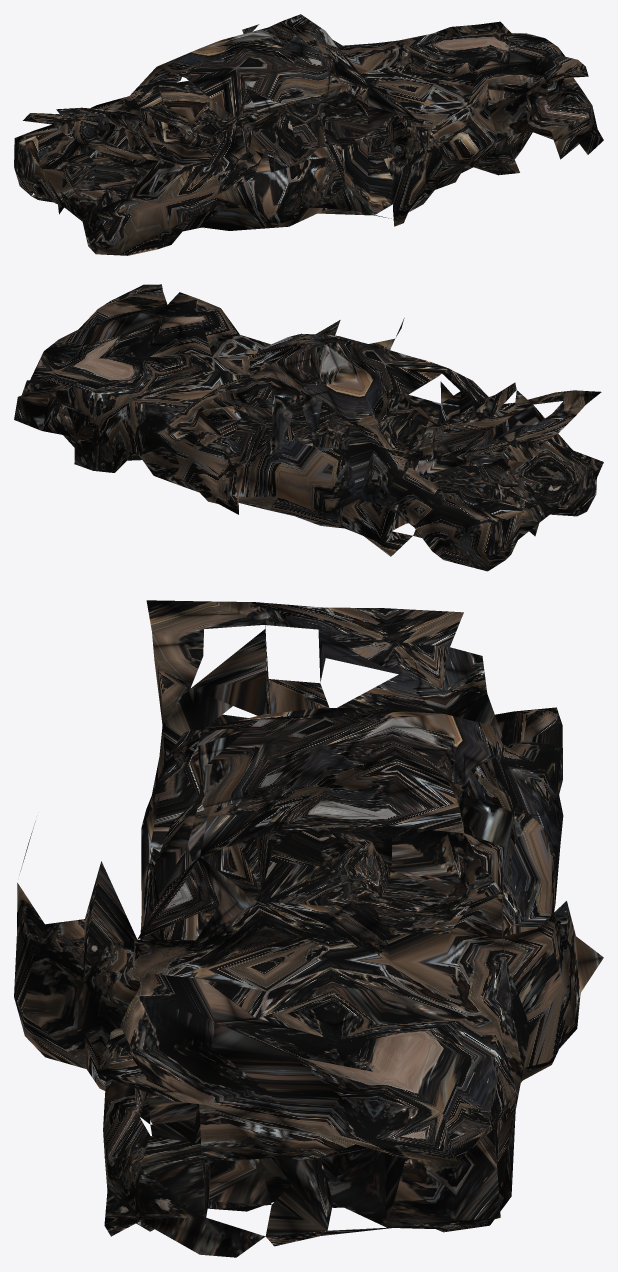
File: destroyed_car_03.glb
3 renders of one model, top to bottom at view 1: azimuth 30°, elevation 25°; view 2: azimuth 150°, elevation 25°; view 3: azimuth 270°, elevation 25°, orthographic. The views are drawn at different scales.
Visible parts, largest first — view 1: destroyed_car_03; view 2: destroyed_car_03; view 3: destroyed_car_03.
Part boxes in pixels (box(x1,y1,x2,y2)): destroyed_car_03: box(14, 14, 603, 255); destroyed_car_03: box(14, 284, 603, 571); destroyed_car_03: box(14, 600, 603, 1257).
Bounding box in the file's own units: 3.1 × 0.9151 × 1.57.
Materials: 1 (1 with a texture image).
